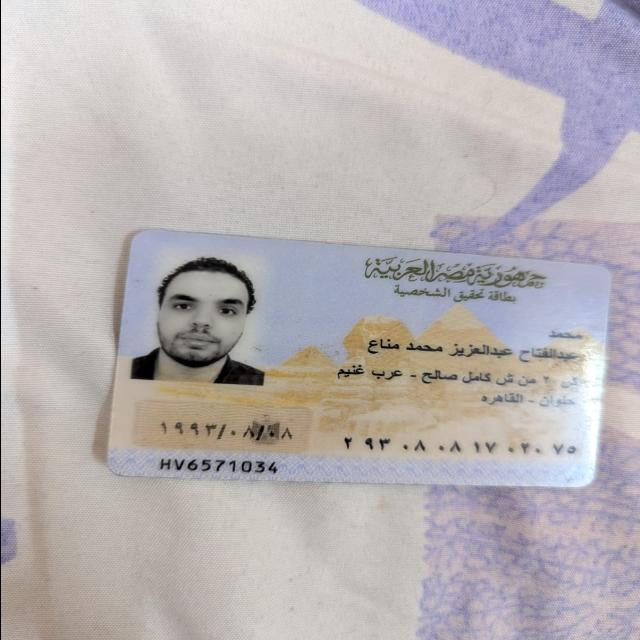id_card: (91, 210, 616, 502)
